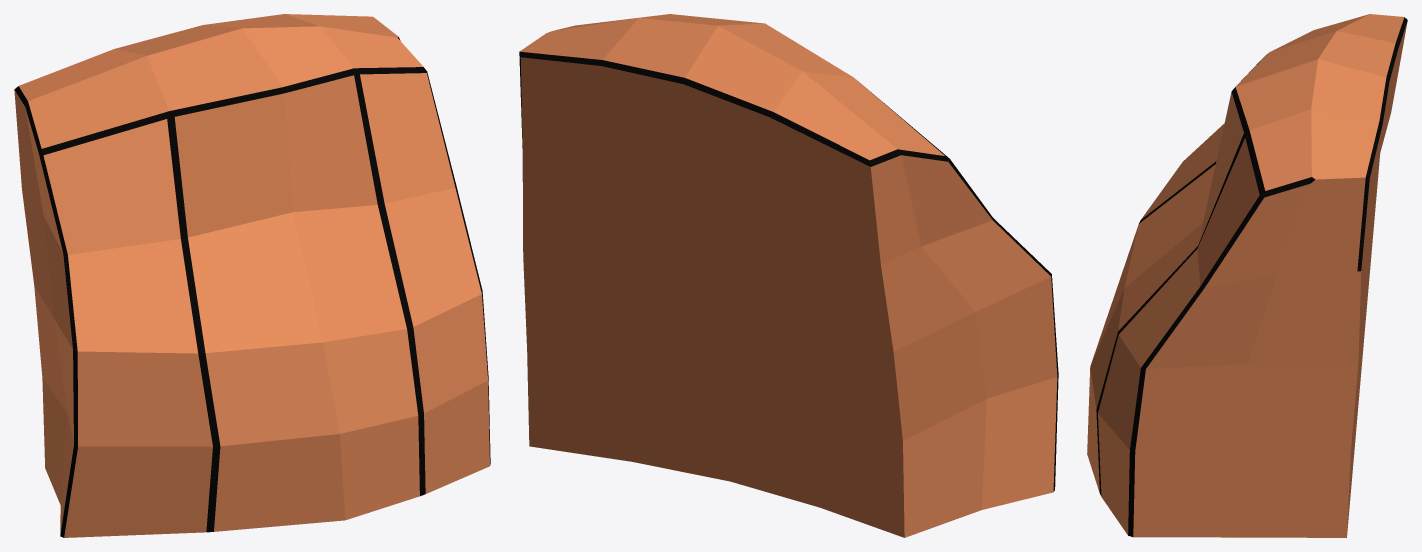
The model's file is RockWall03.fbx.
The picture shows the model from 3 angles, left to right: view 1: azimuth 30°, elevation 25°; view 2: azimuth 150°, elevation 25°; view 3: azimuth 270°, elevation 25°; orthographic projection. The views are drawn at different scales.
Visible parts, largest first — view 1: Cube.016; view 2: Cube.016; view 3: Cube.016.
Part boxes in pixels (x1,y1,x2,y2): Cube.016: [14, 14, 490, 537]; Cube.016: [519, 14, 1058, 537]; Cube.016: [1087, 14, 1407, 537].
Size of the model in its own units: 1077 by 1044 by 752.
